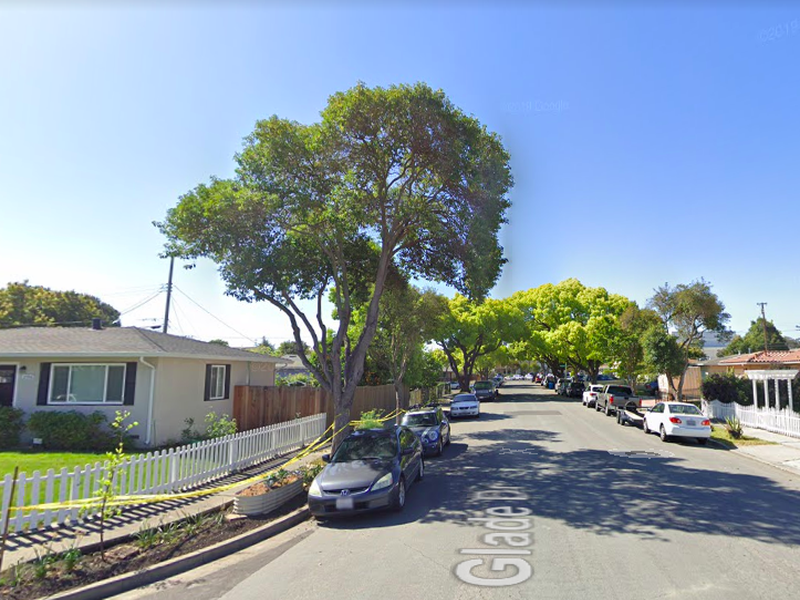tree: (151, 78, 516, 467)
